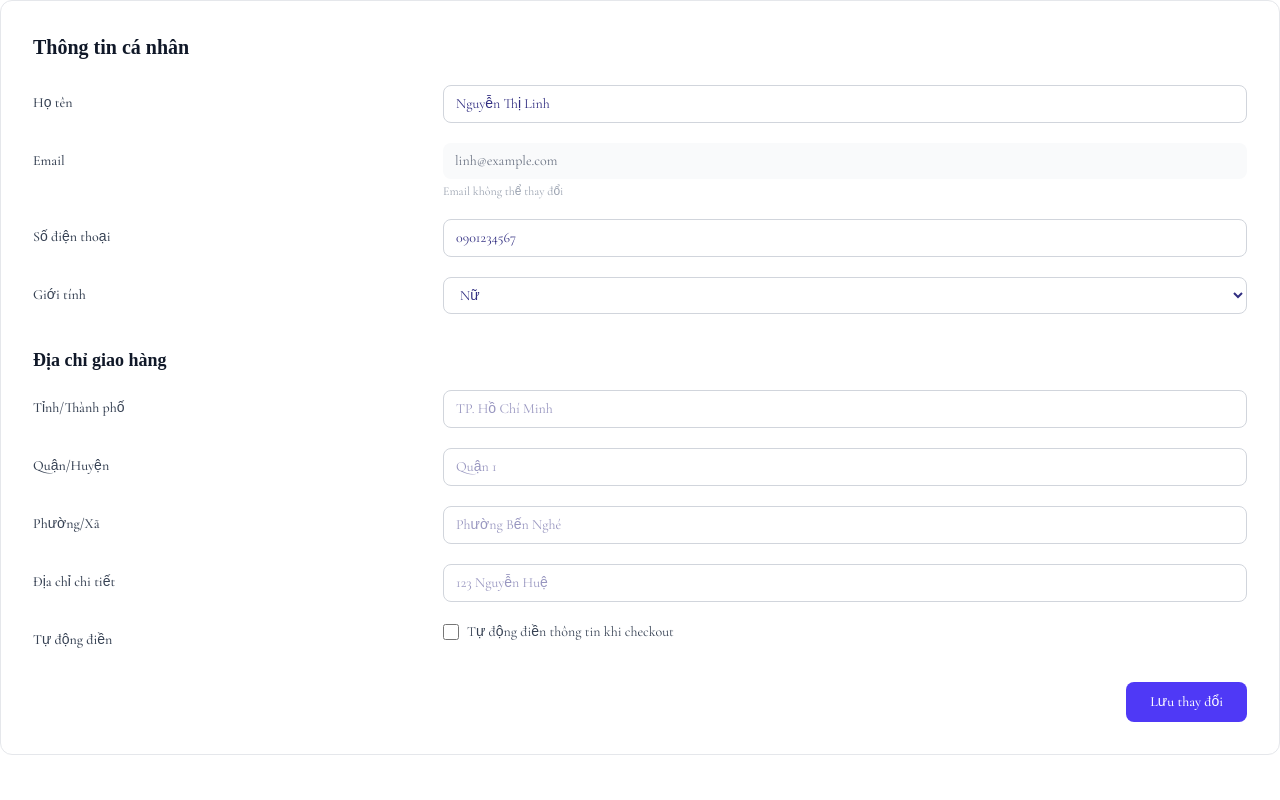
PersonalInfoForm › shows success toast on successful save
Click the button "Lưu thay đổi" at (1187, 702), box [1126,682,1247,722]
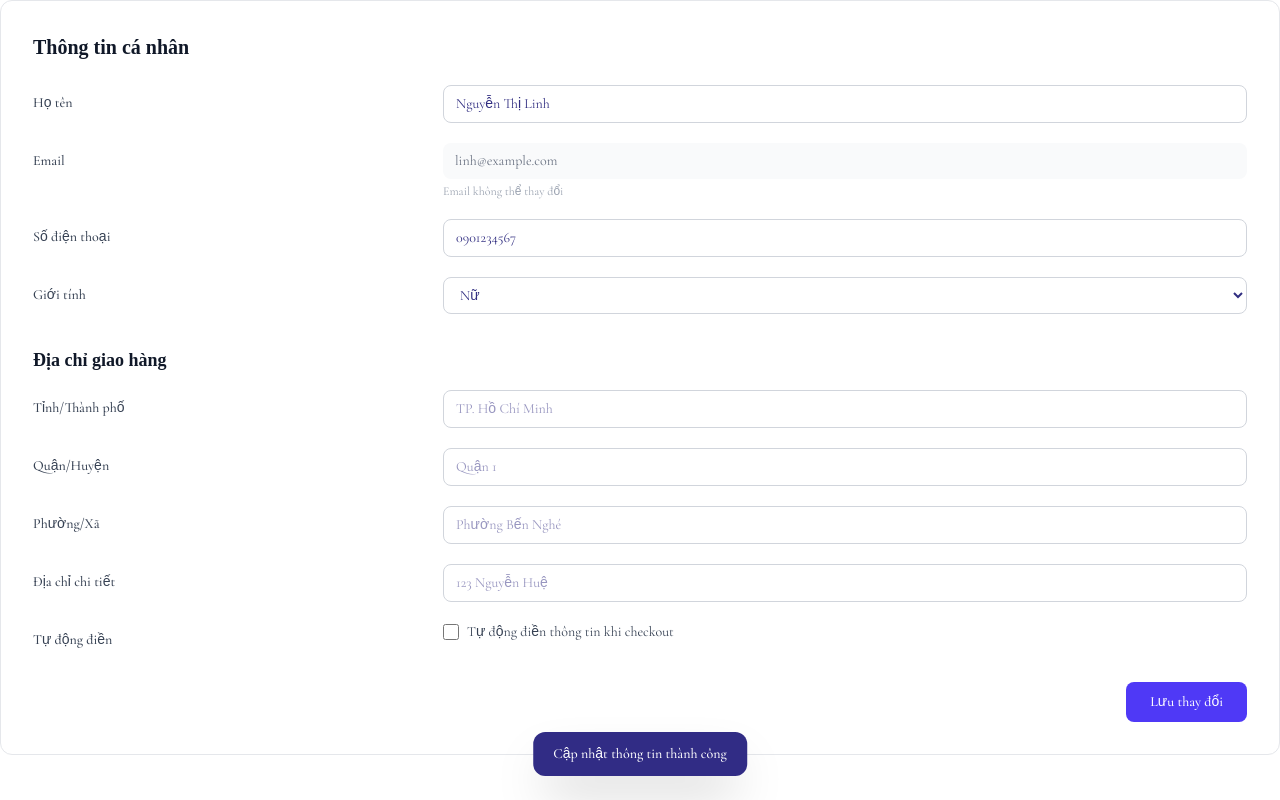
Now the text "Cập nhật thông tin thành công" is shown, box [533,732,747,776]
